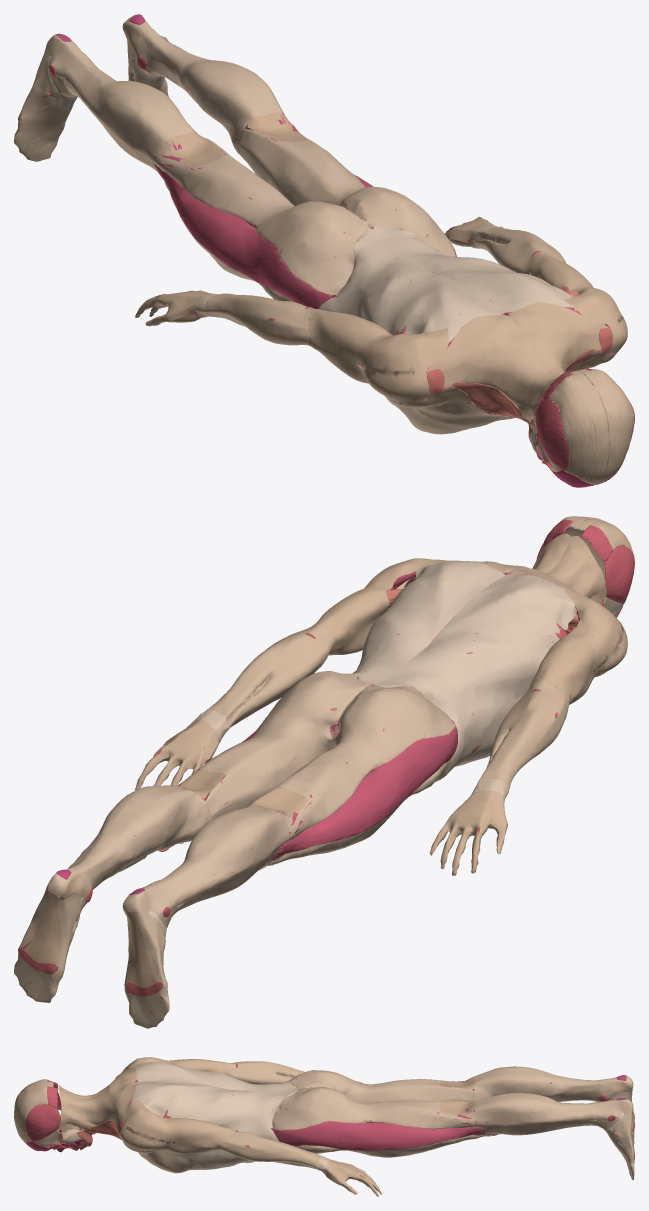
Rendered from muscular.glb.
3 renders of one model, top to bottom at view 1: azimuth 30°, elevation 25°; view 2: azimuth 150°, elevation 25°; view 3: azimuth 270°, elevation 25°, orthographic. The views are drawn at different scales.
Parts seen in each view (by area): view 1: 右侧阔筋膜, 右侧小腿筋膜, 右侧腹壁包被筋膜, 左侧阔筋膜, 左侧小腿筋膜, 右侧颈筋膜浅层, 右侧髂胫束, 右侧三角肌筋膜, 左侧腹壁包被筋膜, 右侧帽状腱膜, 左侧颈筋膜浅层, 右侧前臂筋膜 (+11 smaller); view 2: 右侧腹壁包被筋膜, 右侧阔筋膜, 右侧小腿筋膜, 左侧小腿筋膜, 左侧阔筋膜, 左侧腹壁包被筋膜, 右侧髂胫束, 左侧前臂筋膜, 右侧前臂筋膜, 左侧臂筋膜, 右侧手背筋膜, 右侧臂筋膜 (+11 smaller); view 3: 左侧腹壁包被筋膜, 左侧阔筋膜, 左侧小腿筋膜, 左侧髂胫束, 右侧小腿筋膜, 右侧阔筋膜, 左侧颈筋膜浅层, 左侧前臂筋膜, 右侧腹壁包被筋膜, 左侧三角肌筋膜, 左侧臂筋膜, 右侧前臂筋膜 (+12 smaller).
Part boxes in pixels (box(x1,y1,x2,y2)): 右侧阔筋膜: box(154, 138, 368, 301); 右侧小腿筋膜: box(14, 34, 201, 183); 右侧腹壁包被筋膜: box(318, 228, 504, 408); 左侧阔筋膜: box(238, 114, 455, 256); 左侧小腿筋膜: box(126, 14, 284, 154); 右侧颈筋膜浅层: box(427, 314, 570, 433); 右侧髂胫束: box(154, 164, 332, 308); 右侧三角肌筋膜: box(354, 327, 471, 407); 左侧腹壁包被筋膜: box(373, 226, 576, 312); 右侧帽状腱膜: box(549, 371, 609, 485); 左侧颈筋膜浅层: box(509, 302, 609, 378); 右侧前臂筋膜: box(204, 293, 321, 345); 右侧腹壁包被筋膜: box(374, 574, 577, 781); 右侧阔筋膜: box(248, 685, 455, 864); 右侧小腿筋膜: box(123, 806, 289, 1028); 左侧小腿筋膜: box(14, 785, 211, 1002); 左侧阔筋膜: box(178, 671, 368, 842); 左侧腹壁包被筋膜: box(353, 560, 504, 684); 右侧髂胫束: box(270, 725, 458, 860); 左侧前臂筋膜: box(207, 625, 333, 727); 右侧前臂筋膜: box(481, 680, 569, 789); 左侧臂筋膜: box(309, 575, 403, 655); 右侧手背筋膜: box(429, 790, 507, 875); 右侧臂筋膜: box(530, 619, 597, 704); 左侧腹壁包被筋膜: box(129, 1080, 298, 1169); 左侧阔筋膜: box(272, 1087, 479, 1157); 左侧小腿筋膜: box(474, 1092, 634, 1180); 左侧髂胫束: box(273, 1121, 486, 1150); 右侧小腿筋膜: box(474, 1066, 634, 1145); 右侧阔筋膜: box(285, 1070, 473, 1103); 左侧颈筋膜浅层: box(58, 1081, 136, 1136); 左侧前臂筋膜: box(217, 1128, 320, 1169); 右侧腹壁包被筋膜: box(129, 1062, 297, 1091); 左侧三角肌筋膜: box(116, 1099, 175, 1152); 左侧臂筋膜: box(157, 1115, 226, 1154); 右侧前臂筋膜: box(226, 1061, 305, 1084).
Size of the model in its own units: 0.9887 by 0.396 by 2.51.
